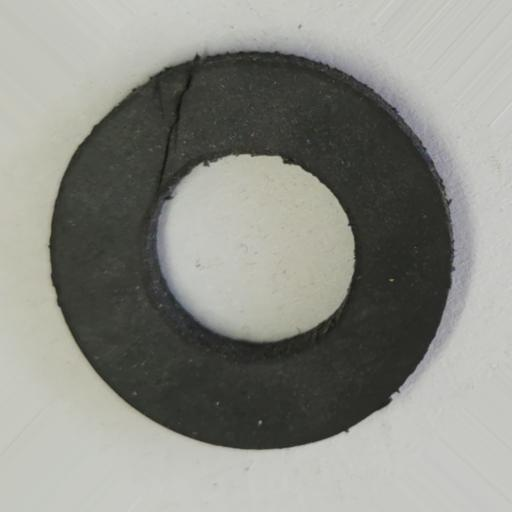defect: (151, 60, 201, 195)
